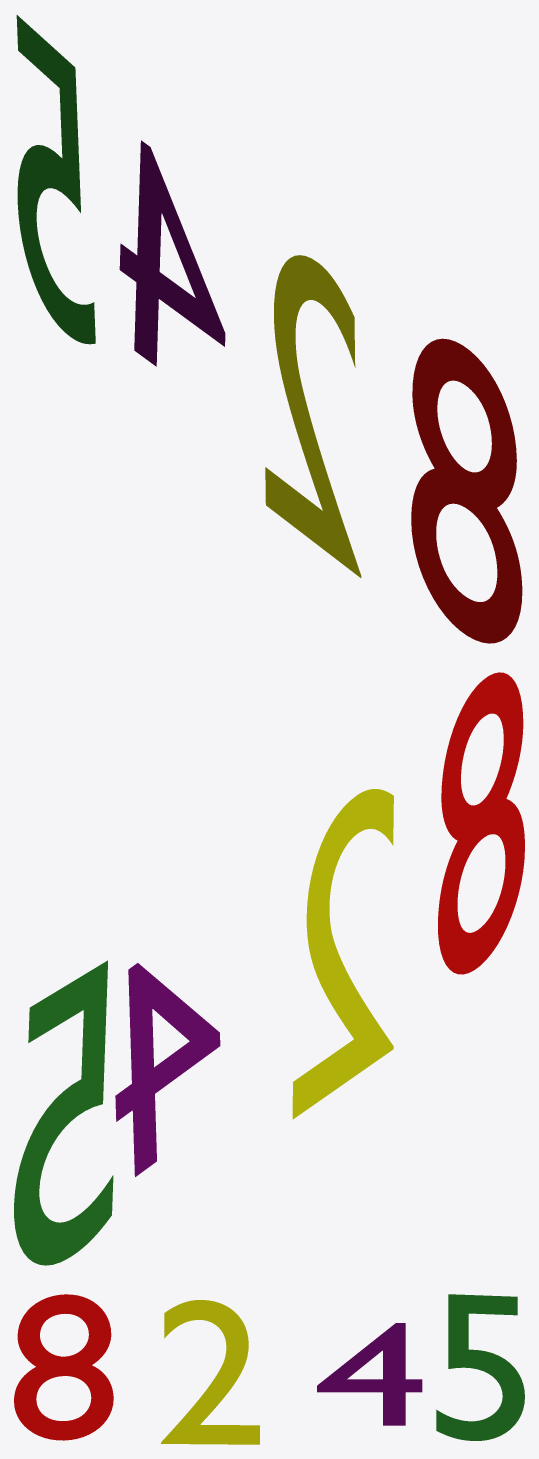
Rendered from Numbers01.fbx.
3 renders of one model, top to bottom at view 1: azimuth 30°, elevation 25°; view 2: azimuth 150°, elevation 25°; view 3: azimuth 270°, elevation 25°, orthographic. The views are drawn at different scales.
Parts seen in each view (by area): view 1: Text, Text.001, Text.003, Text.002; view 2: Text, Text.003, Text.001, Text.002; view 3: Text, Text.003, Text.001, Text.002.
Boxes of the visible parts, x1,y1,x2,y2 form: Text: (411, 338, 522, 643); Text.001: (265, 255, 361, 577); Text.003: (16, 15, 95, 344); Text.002: (119, 140, 225, 366); Text: (438, 672, 524, 974); Text.003: (14, 960, 113, 1265); Text.001: (292, 789, 393, 1119); Text.002: (115, 963, 220, 1176); Text: (14, 1294, 113, 1440); Text.003: (436, 1294, 524, 1440); Text.001: (161, 1300, 259, 1444); Text.002: (317, 1323, 422, 1425).
Bounding box in the file's own units: 6.97 × 72.71 × 223.
